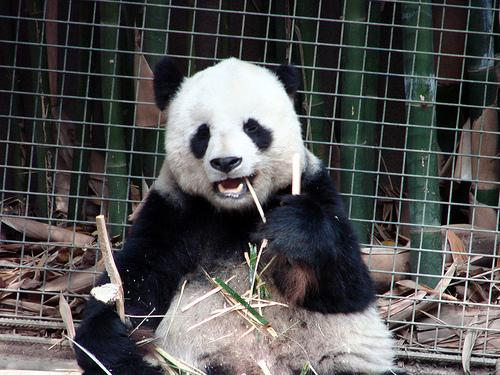panda: (114, 58, 405, 374), (75, 297, 162, 374)
